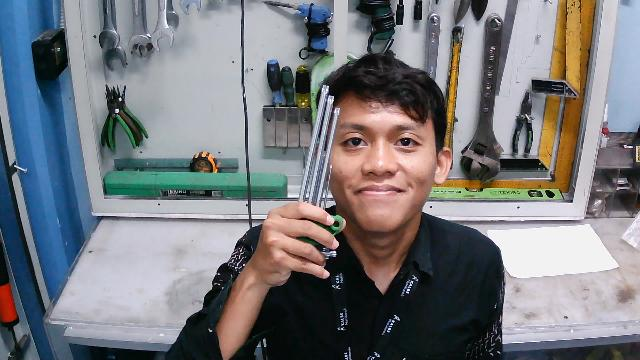kunci_l_bintang: (279, 84, 344, 276)
